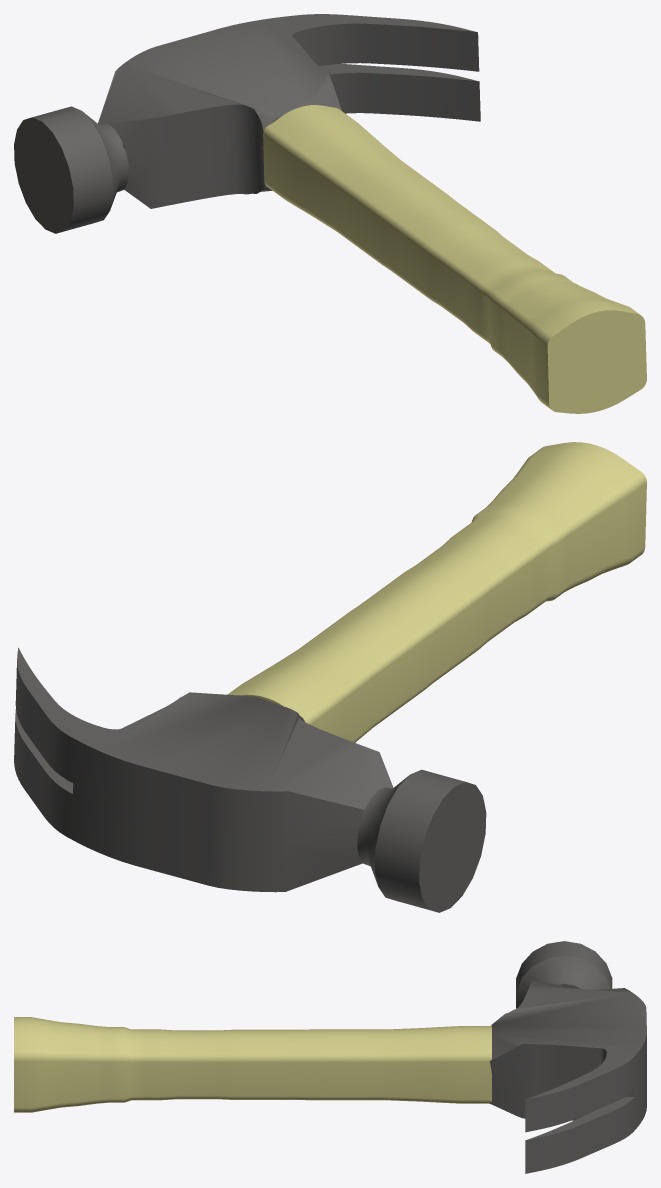
File: hammer.fbx
3 views of the same model, one above another, from view 1: azimuth 30°, elevation 25°; view 2: azimuth 150°, elevation 25°; view 3: azimuth 270°, elevation 25° (orthographic). The views are drawn at different scales.
Parts seen in each view (by area): view 1: head, handle; view 2: head, handle; view 3: handle, head.
Part boxes in pixels (x1,y1,x2,y2): head: (14,14,480,233); handle: (263,105,646,413); head: (14,647,486,912); handle: (228,442,646,742); handle: (14,1017,491,1112); head: (489,941,646,1173).
Size of the model in its own units: 0.6253 by 0.1658 by 1.02.
